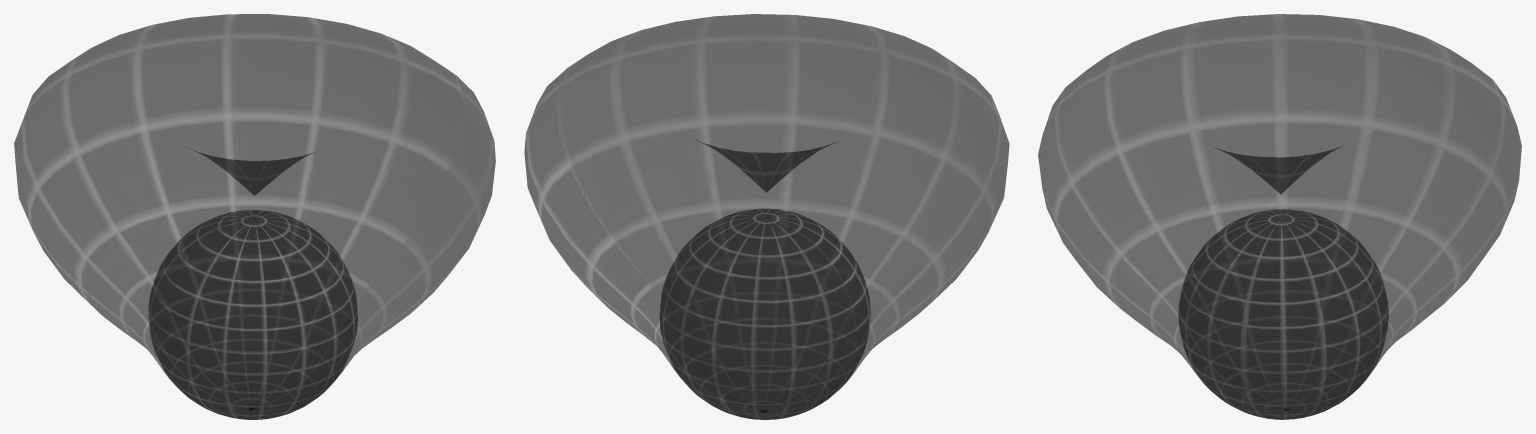
File: macroscopic_quantum_qubit.glb
3 views of the same model, side by side, from view 1: azimuth 30°, elevation 25°; view 2: azimuth 150°, elevation 25°; view 3: azimuth 270°, elevation 25° (orthographic).
Parts seen in each view (by area): view 1: Object_4; view 2: Object_4; view 3: Object_4.
Boxes of the visible parts, box(x1,y1,x2,y2) form: Object_4: box(14, 14, 495, 419); Object_4: box(524, 14, 1009, 419); Object_4: box(1038, 14, 1521, 419).
Size of the model in its own units: 4.59 by 3.33 by 4.59.
1 material, 1 textured.
